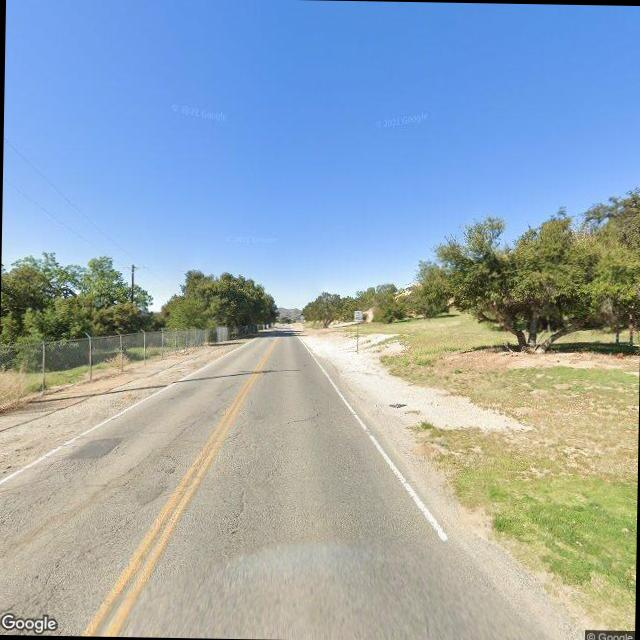crack: (0, 433, 177, 616)
